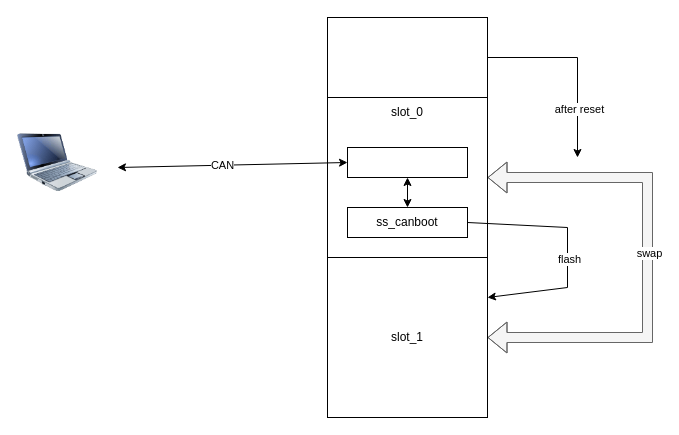
This 679x435 diagram has some shape labels left out. Here are the shapes that lost their labels. From the top down, the centre of each, then its label:
At pixel 407 57: "MCUBOOT".
At pixel 407 162: "ss_can".
